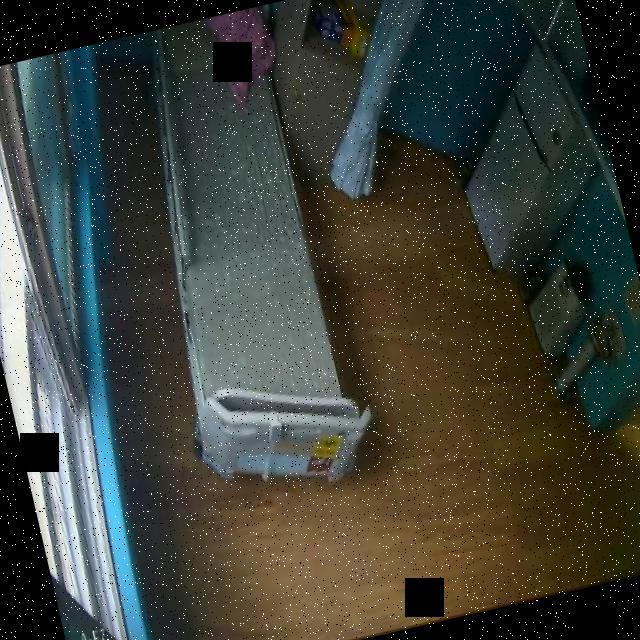bed: (107, 2, 386, 514)
